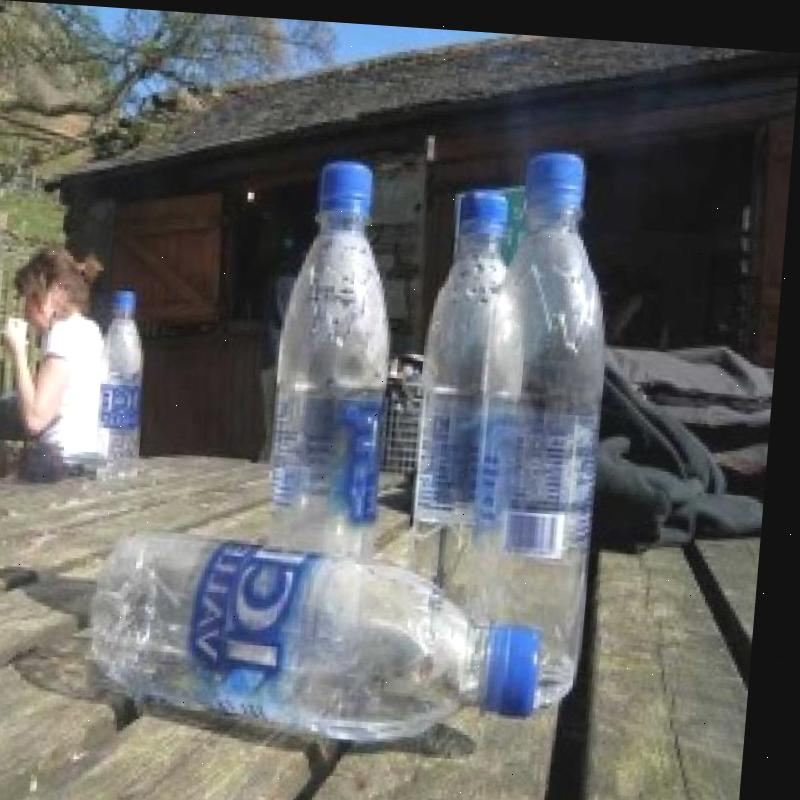botella: (95, 519, 558, 747), (477, 138, 629, 698), (270, 156, 407, 547), (412, 183, 528, 625), (97, 286, 157, 482)
